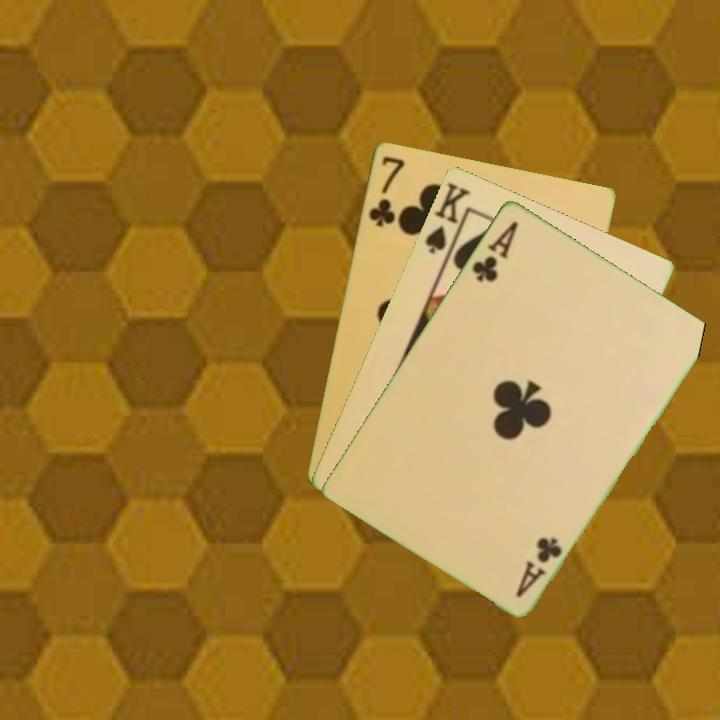7c: (364, 152, 408, 229)
Ac: (512, 533, 566, 600), (468, 217, 521, 285)
Ks: (421, 178, 473, 264)
